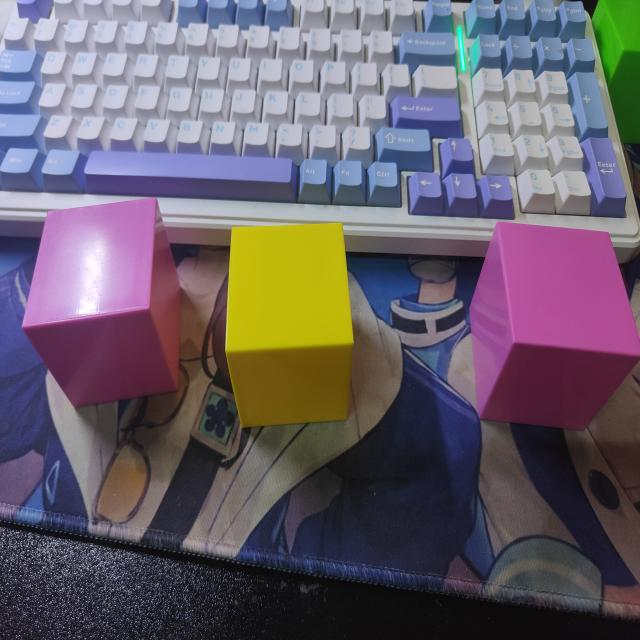pink: (468, 222, 640, 433), (22, 199, 183, 410)
yellow: (223, 223, 355, 430)
